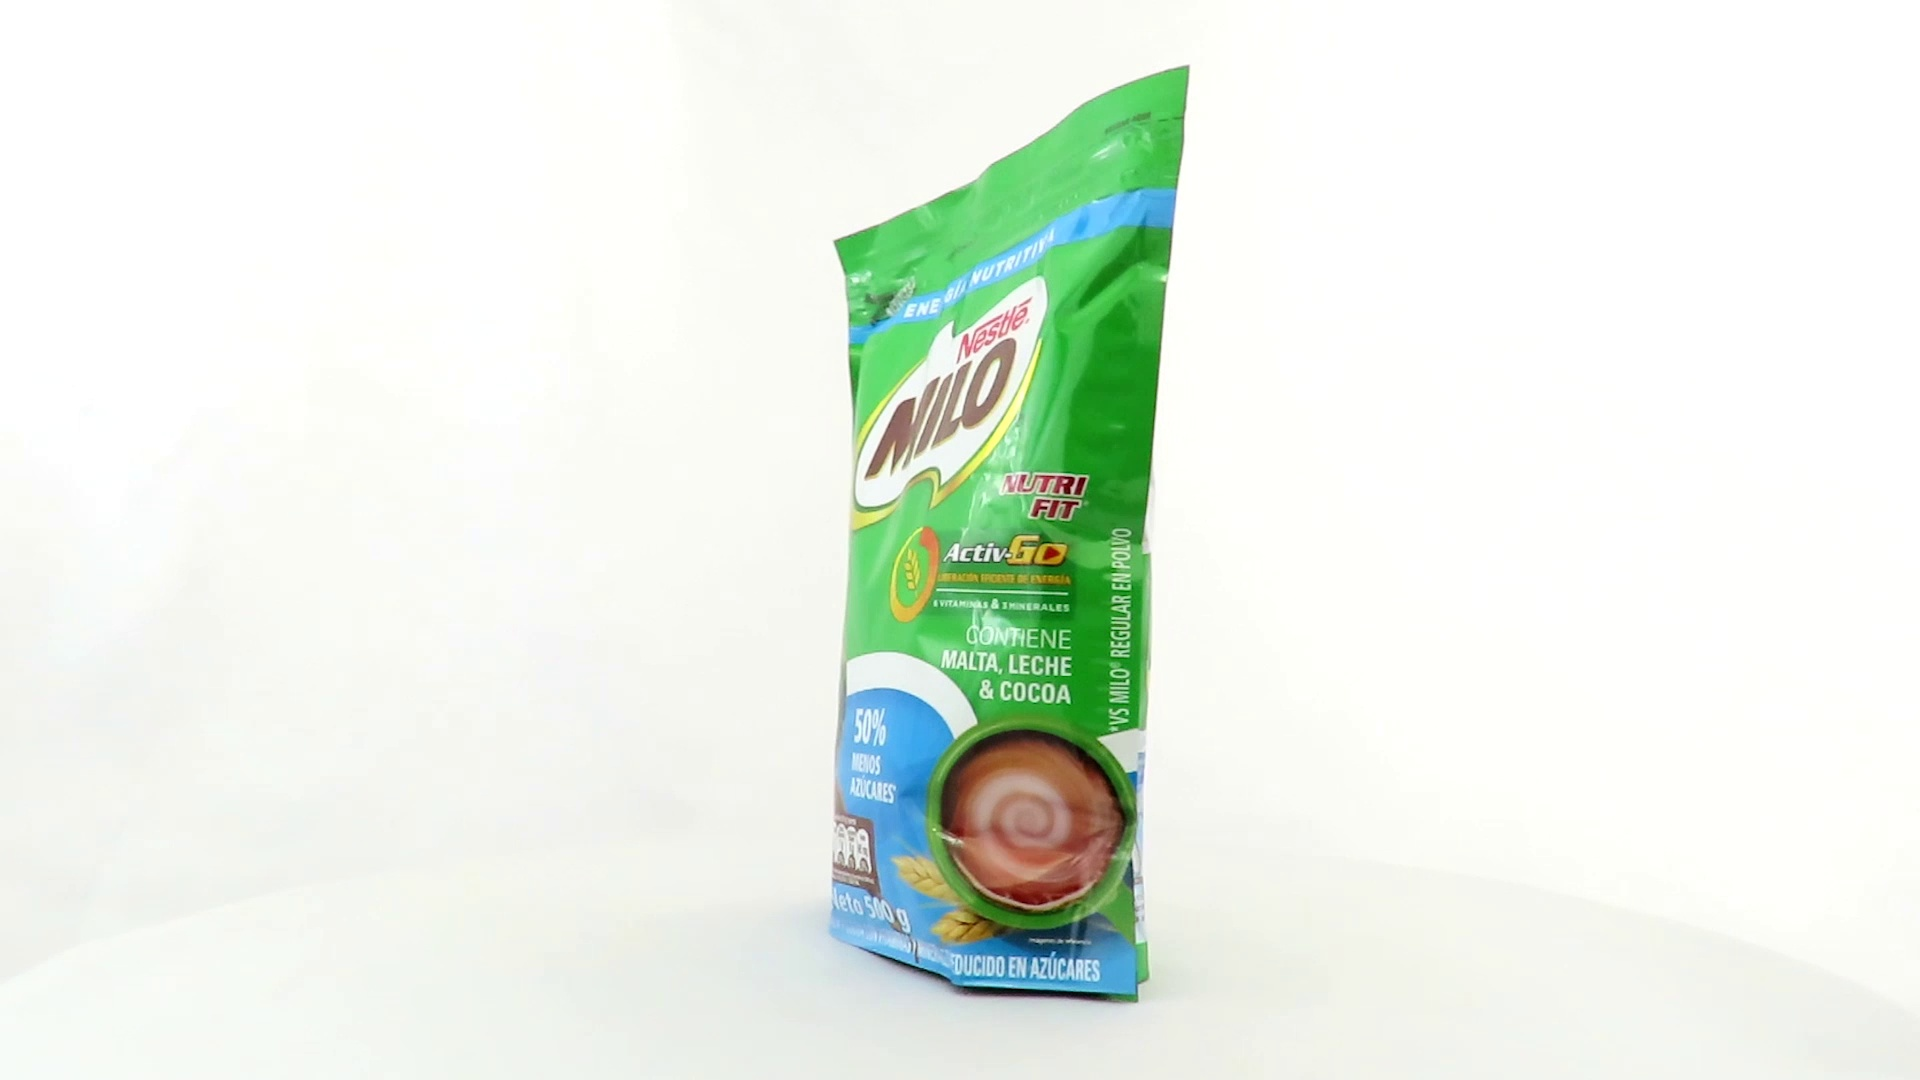COL0170205DYP50000: (823, 61, 1196, 1010)
